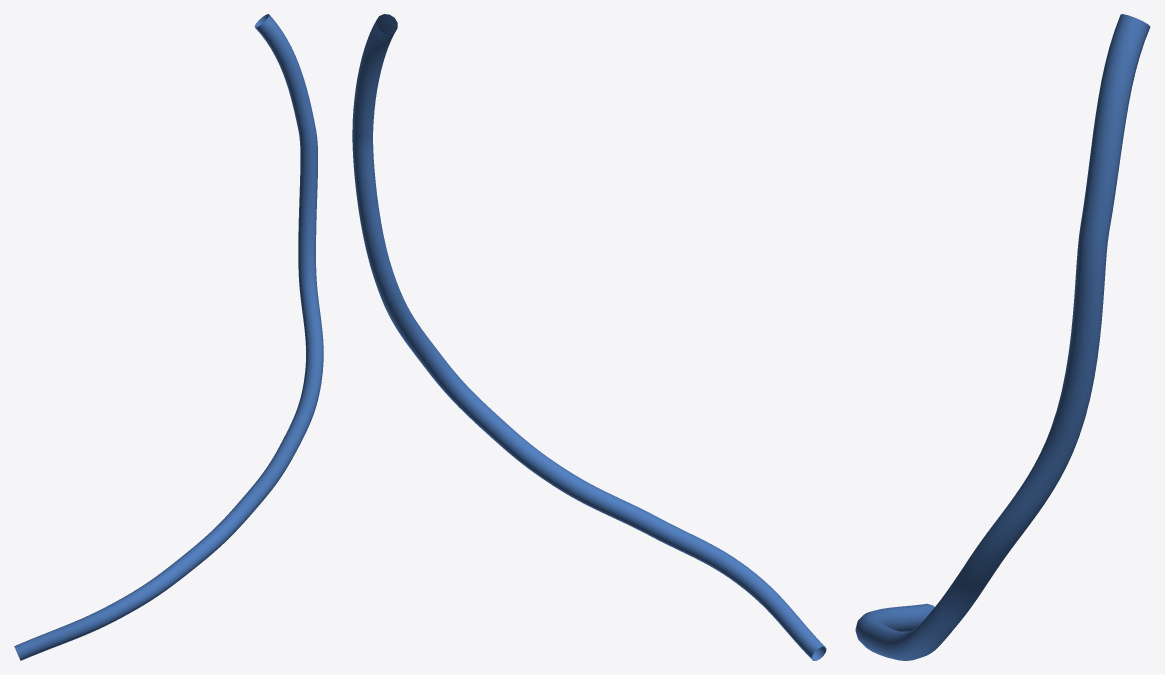
3 views of the same model, side by side, from view 1: azimuth 30°, elevation 25°; view 2: azimuth 150°, elevation 25°; view 3: azimuth 270°, elevation 25° (orthographic). The views are drawn at different scales.
Visible parts, largest first — view 1: 左侧足背静脉弓; view 2: 左侧足背静脉弓; view 3: 左侧足背静脉弓.
Part boxes in pixels (x1,y1,x2,y2): 左侧足背静脉弓: (14,14,323,660); 左侧足背静脉弓: (352,14,826,660); 左侧足背静脉弓: (855,14,1150,660).
Size of the model in its own units: 0.0671 by 0.0953 by 0.0295.
